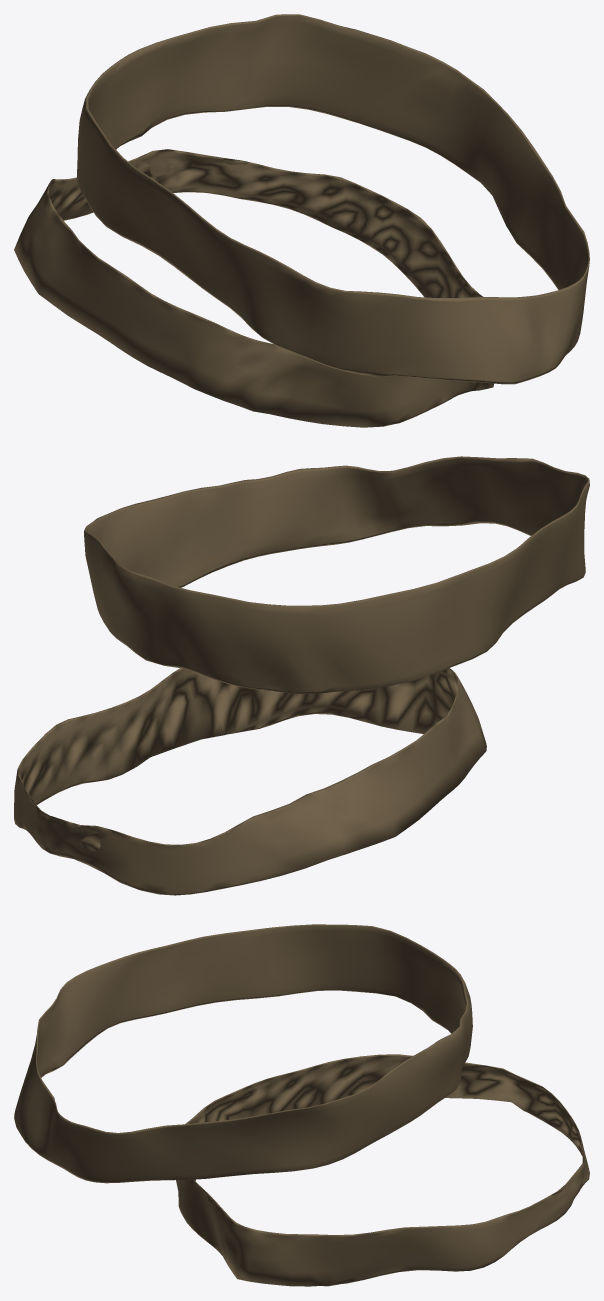
Rendered from band.fbx.
3 views of the same model, one above another, from view 1: azimuth 30°, elevation 25°; view 2: azimuth 150°, elevation 25°; view 3: azimuth 270°, elevation 25° (orthographic). The views are drawn at different scales.
Parts seen in each view (by area): view 1: Bandage, Bandage.001; view 2: Bandage, Bandage.001; view 3: Bandage, Bandage.001.
Part boxes in pixels (box(x1,y1,x2,y2)): Bandage: box(76, 14, 589, 384); Bandage.001: box(14, 149, 493, 427); Bandage: box(84, 456, 589, 694); Bandage.001: box(14, 668, 486, 895); Bandage: box(14, 924, 472, 1183); Bandage.001: box(176, 1054, 589, 1286).
Bounding box in the file's own units: 1303 × 951 × 2149.
